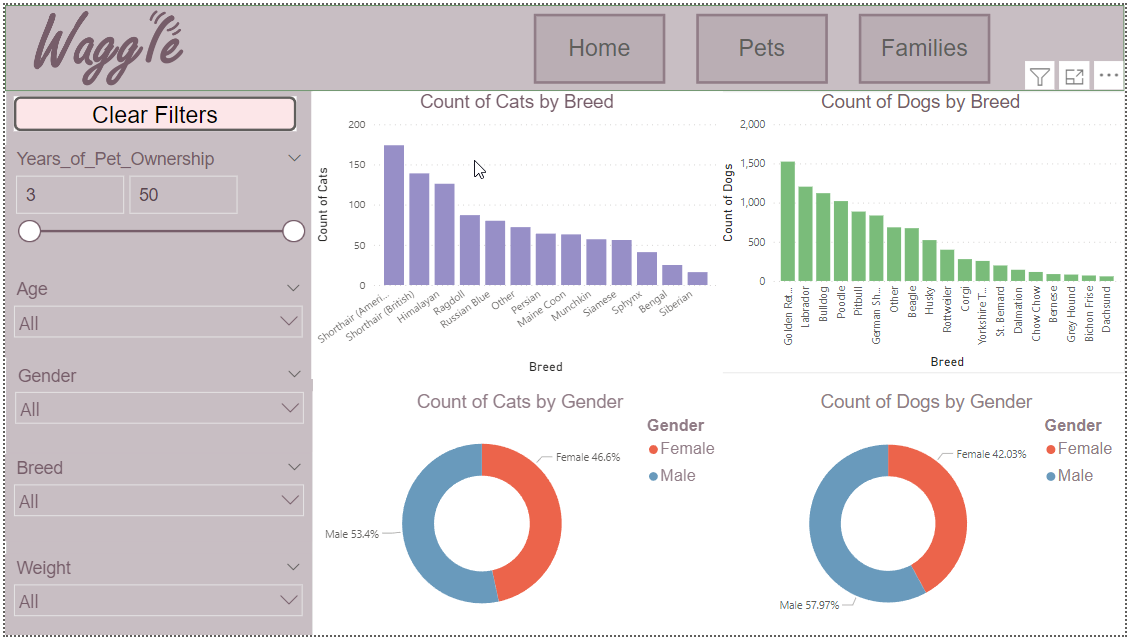

The page's visual inventory and layout, read from the dashboard file:
{"tool":"powerbi","page":{"name":"Pets","canvas":[1280,720],"ordinal":1},"visuals":[{"type":"shape","box":[1.4,0,350,720],"z":0},{"type":"slicer","fields":{"Values":["Family_Data.Years_of_Pet_Ownership"]},"box":[0,160,351.4,161.4],"z":0,"group":"g1"},{"type":"shape","title":"banner","box":[0,0,1279.5,98.7],"z":1000},{"type":"slicer","fields":{"Values":["Pet_Data.Age"]},"box":[0,308.6,350,94.3],"z":1000,"group":"g1"},{"type":"image","box":[0,0,237.1,97.1],"z":2000},{"type":"slicer","fields":{"Values":["Pet_Data.Gender"]},"box":[1.4,407.1,350,104.3],"z":2000,"group":"g1"},{"type":"actionButton","title":"Home","box":[604.3,10,150,80],"z":3000},{"type":"slicer","fields":{"Values":["Pet_Data.Breed"]},"box":[0,512.9,351.4,100],"z":3000,"group":"g1"},{"type":"actionButton","title":"Pets","box":[790,10,150,80],"z":4000},{"type":"slicer","fields":{"Values":["Pet_Data.Weight"]},"box":[0,627.1,350,92.9],"z":4000,"group":"g1"},{"type":"actionButton","title":"Clear Filters","box":[10,104.3,322.9,40],"z":5000},{"type":"actionButton","title":"Families","box":[975.7,10,150,80],"z":6000},{"type":"group","id":"g1","title":"slicer","box":[0,160,351.4,560],"z":7000},{"type":"donutChart","fields":{"Category":["Pet_Data.Gender"],"Y":["CountNonNull(Pet_Data.Gender)"]},"box":[825.7,441.4,454.3,278.6],"z":8000},{"type":"donutChart","fields":{"Category":["Pet_Data.Gender"],"Y":["CountNonNull(Pet_Data.Gender)"]},"box":[351.4,441.4,474.3,278.6],"z":9000},{"type":"columnChart","fields":{"Category":["Pet_Data.Breed"],"Y":["CountNonNull(Pet_Data.Breed)"]},"box":[812.9,98.6,467.1,322.9],"z":10000},{"type":"columnChart","fields":{"Category":["Pet_Data.Breed"],"Y":["CountNonNull(Pet_Data.Breed)"]},"box":[350,98.6,470,328.6],"z":11000}]}

Visuals, with their boxes in screenshot pixels (x1, y1, x2, y2), scaled from the page's 1280x720 canvas onto the 1129x641 screenshot:
shape: 1, 0, 310, 640
slicer - Family_Data.Years_of_Pet_Ownership: 0, 142, 310, 286
"banner" shape: 0, 0, 1128, 88
slicer - Pet_Data.Age: 0, 275, 309, 359
image: 0, 0, 209, 86
slicer - Pet_Data.Gender: 1, 362, 310, 455
"Home" actionButton: 533, 9, 665, 80
slicer - Pet_Data.Breed: 0, 457, 310, 546
"Pets" actionButton: 697, 9, 829, 80
slicer - Pet_Data.Weight: 0, 558, 309, 640
"Clear Filters" actionButton: 9, 93, 294, 128
"Families" actionButton: 861, 9, 993, 80
"slicer" group: 0, 142, 310, 640
donutChart - Pet_Data.Gender x CountNonNull(Pet_Data.Gender): 728, 393, 1128, 640
donutChart - Pet_Data.Gender x CountNonNull(Pet_Data.Gender): 310, 393, 728, 640
columnChart - Pet_Data.Breed x CountNonNull(Pet_Data.Breed): 717, 88, 1128, 375
columnChart - Pet_Data.Breed x CountNonNull(Pet_Data.Breed): 309, 88, 723, 380
